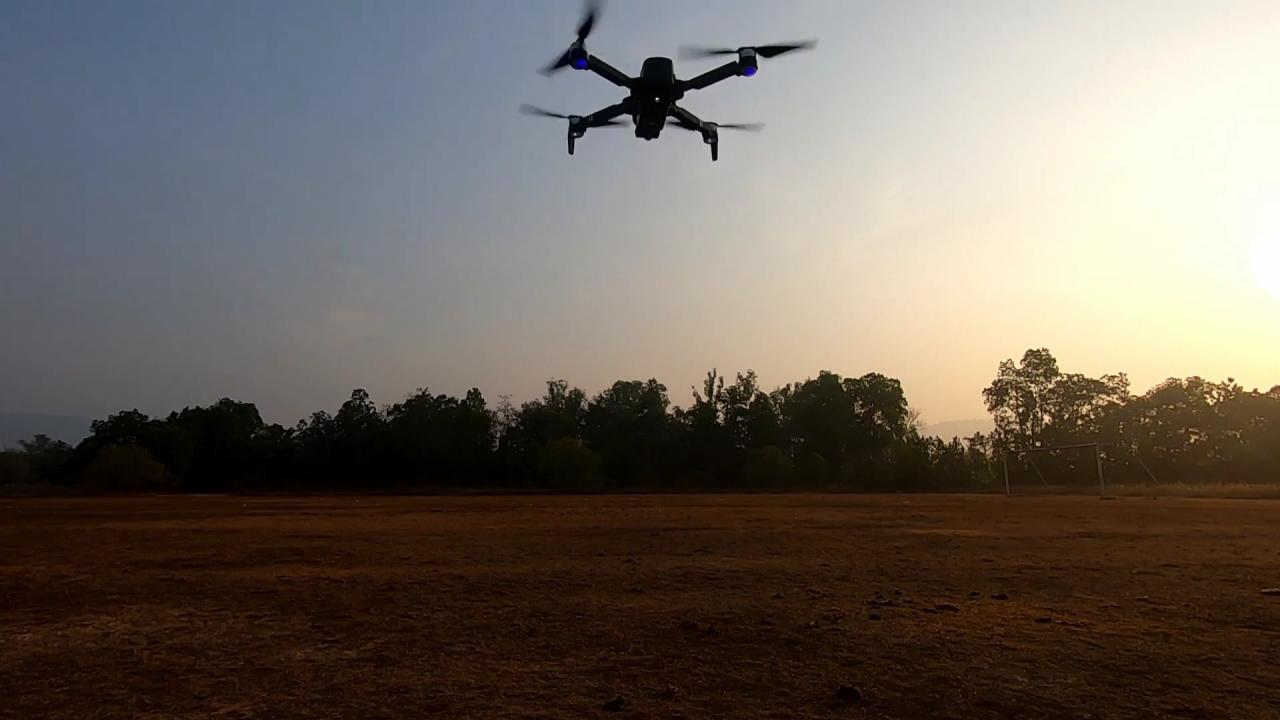Drone: (503, 0, 824, 173)
